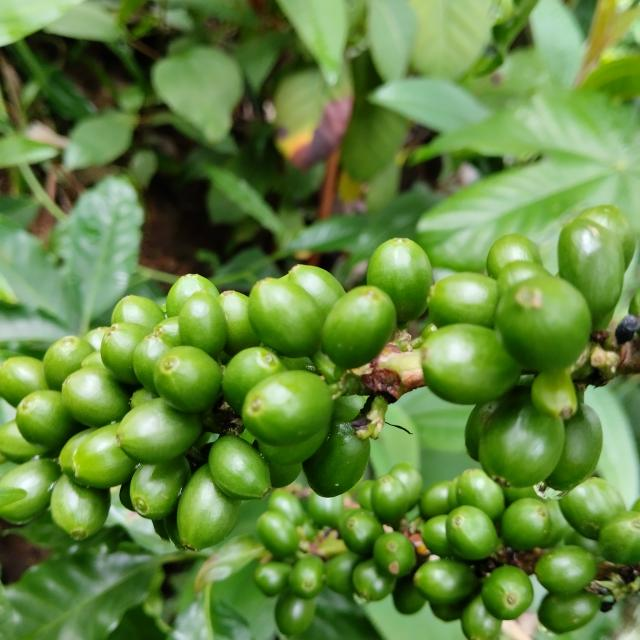green: (495, 275, 593, 372), (479, 388, 566, 488), (420, 324, 521, 405), (559, 218, 626, 331), (242, 371, 333, 446), (322, 285, 397, 369), (248, 277, 325, 358), (116, 398, 202, 465), (367, 238, 433, 324), (176, 465, 241, 552), (302, 421, 371, 498), (546, 404, 604, 491), (153, 346, 222, 413), (222, 347, 286, 415), (72, 423, 136, 489), (61, 367, 130, 428), (15, 390, 82, 452), (208, 436, 271, 501), (428, 272, 499, 328), (129, 456, 190, 521), (0, 459, 60, 525), (50, 475, 110, 541), (579, 204, 638, 270), (132, 316, 181, 392), (178, 291, 227, 358), (100, 322, 152, 385), (284, 264, 345, 317), (257, 424, 330, 466), (536, 546, 598, 595), (446, 506, 499, 561), (482, 566, 535, 621), (42, 336, 94, 391), (216, 291, 260, 356), (487, 234, 543, 279), (465, 398, 504, 462), (165, 274, 220, 317), (0, 357, 47, 407), (339, 509, 384, 556), (58, 428, 96, 481), (373, 532, 416, 578), (498, 260, 552, 296), (110, 295, 165, 330), (372, 475, 410, 525), (0, 421, 44, 464), (422, 515, 456, 558), (268, 463, 302, 488), (129, 388, 158, 409), (83, 327, 108, 351), (80, 350, 106, 369)
